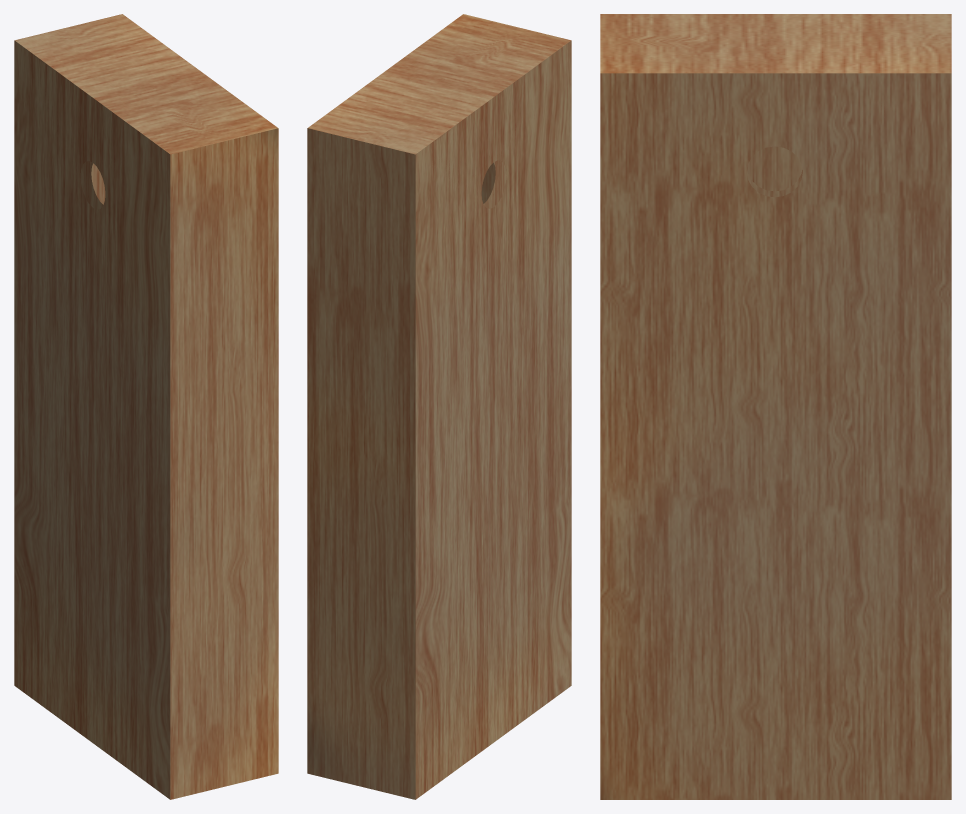
File: Crank Support.1.fbx
The picture shows the model from 3 angles, left to right: view 1: azimuth 30°, elevation 25°; view 2: azimuth 150°, elevation 25°; view 3: azimuth 270°, elevation 25°; orthographic projection. The views are drawn at different scales.
Visible parts, largest first — view 1: Crank Support.1; view 2: Crank Support.1; view 3: Crank Support.1.
Boxes of the visible parts, left/top/right/bottom form: Crank Support.1: left=14, top=14, right=278, bottom=799; Crank Support.1: left=307, top=14, right=571, bottom=799; Crank Support.1: left=600, top=14, right=951, bottom=799.
Size of the model in its own units: 2 by 11.42 by 5.
